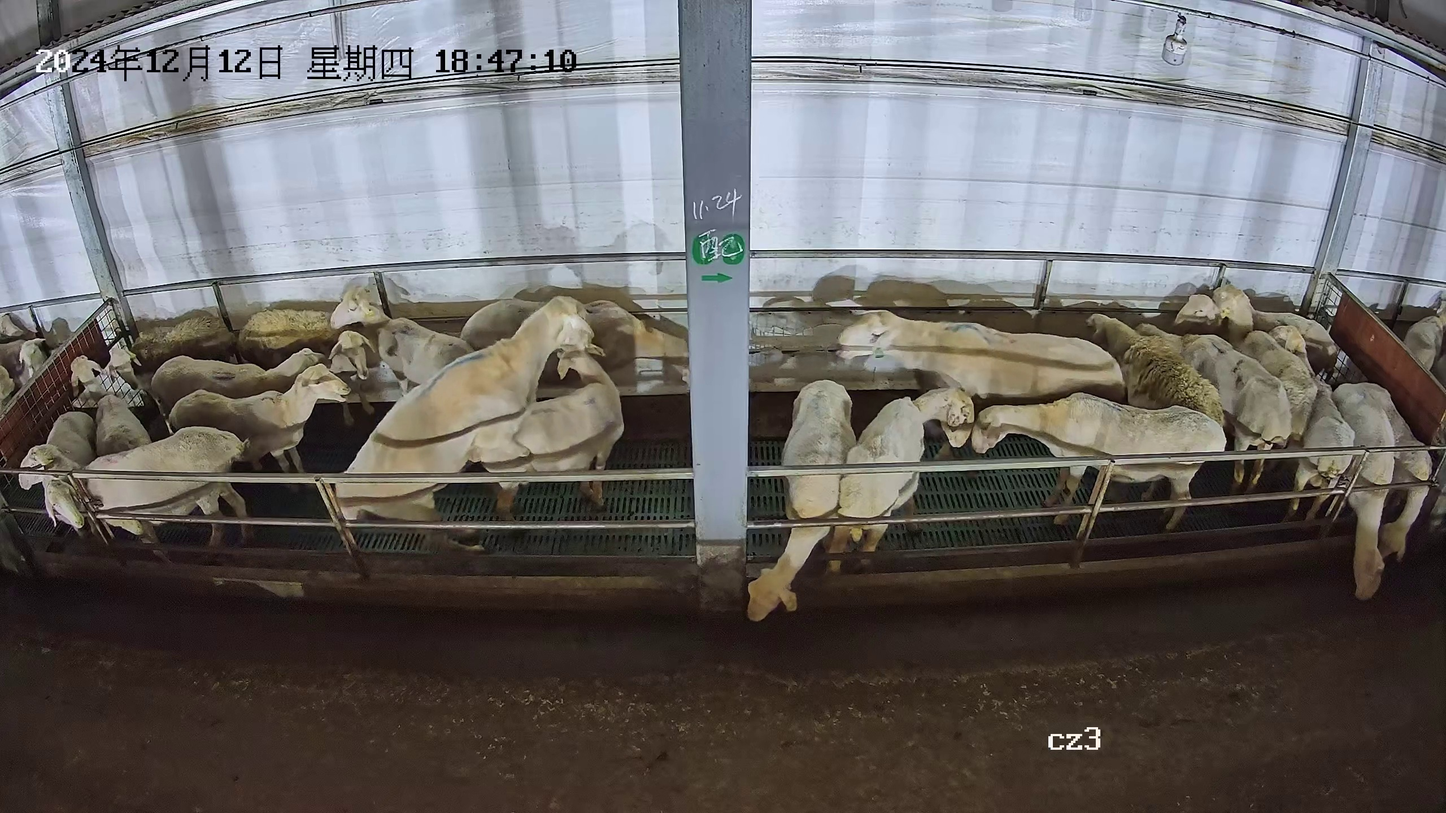Smounting: (330, 294, 630, 556)
mounted: (480, 341, 626, 522)
